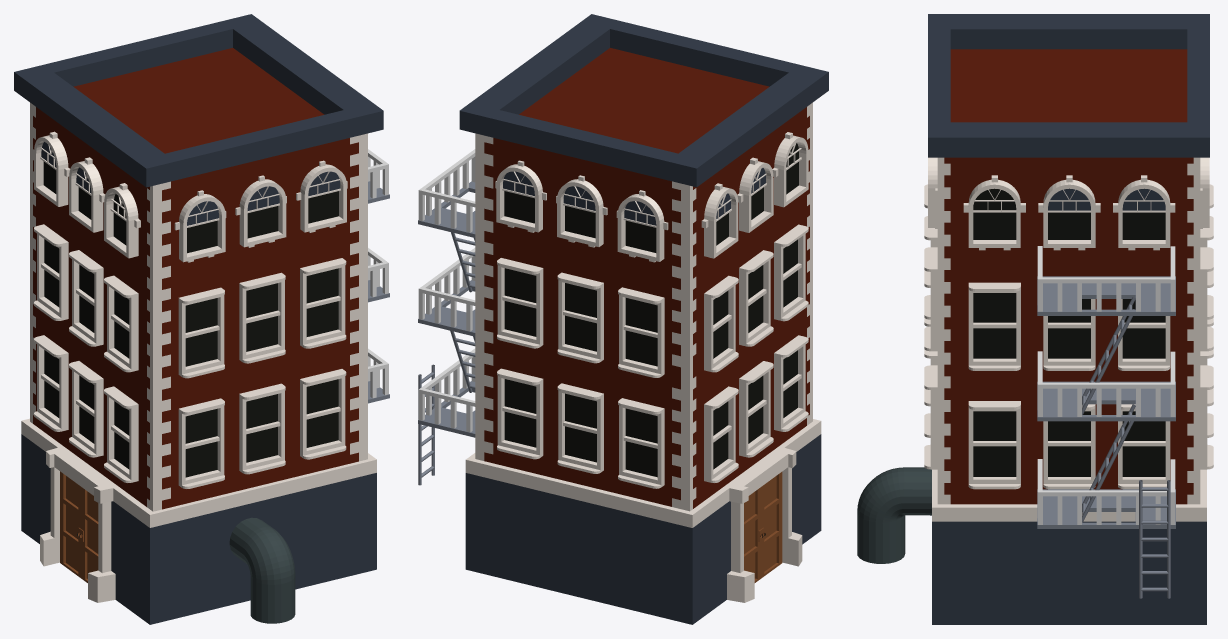
The model's file is House3.fbx.
The picture shows the model from 3 angles, left to right: view 1: azimuth 30°, elevation 25°; view 2: azimuth 150°, elevation 25°; view 3: azimuth 270°, elevation 25°; orthographic projection. The views are drawn at different scales.
Visible parts, largest first — view 1: Main_2.001, Lower_rand.001, Middle_windows.002, Middle_windows.003, Top_windows1.001, Middle_windows, Middle_windows.001, Top_windows1, Cylinder.004, Door.001; view 2: Main_2.001, Lower_rand.001, Middle_windows.002, Middle_windows.003, Top_windows1.001, Middle_windows, Middle_windows.001, Top_windows1, Door.001, Cube.011, Cube.019, Cube.016 (+7 smaller); view 3: Main_2.001, Lower_rand.001, Middle_windows.001, Middle_windows, Top_windows1, Cylinder.004, Middle_windows.002, Platform_top, Platform_middle, Middle_windows.003, Platform_lower, Cube.011 (+6 smaller).
Part boxes in pixels (bbox=[...]): Main_2.001: bbox=[14, 14, 383, 511]; Lower_rand.001: bbox=[21, 418, 376, 624]; Middle_windows.002: bbox=[178, 258, 346, 378]; Middle_windows.003: bbox=[178, 369, 346, 488]; Top_windows1.001: bbox=[174, 160, 347, 262]; Middle_windows: bbox=[34, 224, 138, 372]; Middle_windows.001: bbox=[34, 335, 138, 482]; Top_windows1: bbox=[34, 131, 140, 258]; Cylinder.004: bbox=[229, 517, 295, 623]; Door.001: bbox=[60, 471, 98, 582]; Main_2.001: bbox=[459, 14, 828, 511]; Lower_rand.001: bbox=[465, 419, 821, 624]; Middle_windows.002: bbox=[497, 258, 664, 377]; Middle_windows.003: bbox=[497, 368, 664, 488]; Top_windows1.001: bbox=[495, 160, 668, 262]; Middle_windows: bbox=[704, 224, 808, 372]; Middle_windows.001: bbox=[704, 335, 808, 482]; Top_windows1: bbox=[701, 132, 808, 258]; Door.001: bbox=[744, 472, 782, 582]; Cube.011: bbox=[419, 149, 475, 215]; Cube.019: bbox=[418, 388, 475, 432]; Cube.016: bbox=[418, 288, 475, 331]; Main_2.001: bbox=[928, 14, 1209, 504]; Lower_rand.001: bbox=[932, 469, 1206, 624]; Middle_windows.001: bbox=[968, 401, 1170, 489]; Middle_windows: bbox=[968, 282, 1170, 370]; Top_windows1: bbox=[963, 175, 1175, 250]; Cylinder.004: bbox=[857, 467, 931, 563]; Middle_windows.002: bbox=[924, 184, 1213, 351]; Platform_top: bbox=[1037, 276, 1175, 315]; Platform_middle: bbox=[1037, 381, 1175, 421]; Middle_windows.003: bbox=[924, 318, 1213, 469]; Platform_lower: bbox=[1037, 489, 1175, 528]; Cube.011: bbox=[1038, 277, 1175, 311].
Bounding box in the file's own units: 13.04 × 18.34 × 12.1.
